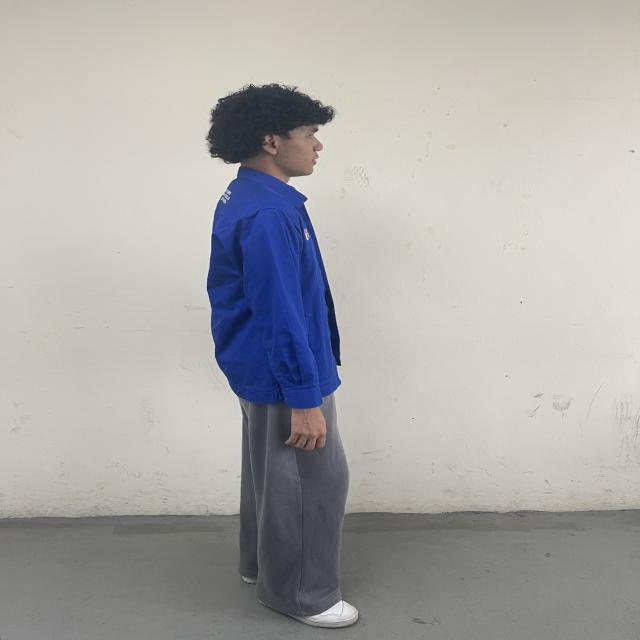person_with_labcoat: (207, 85, 358, 628)
